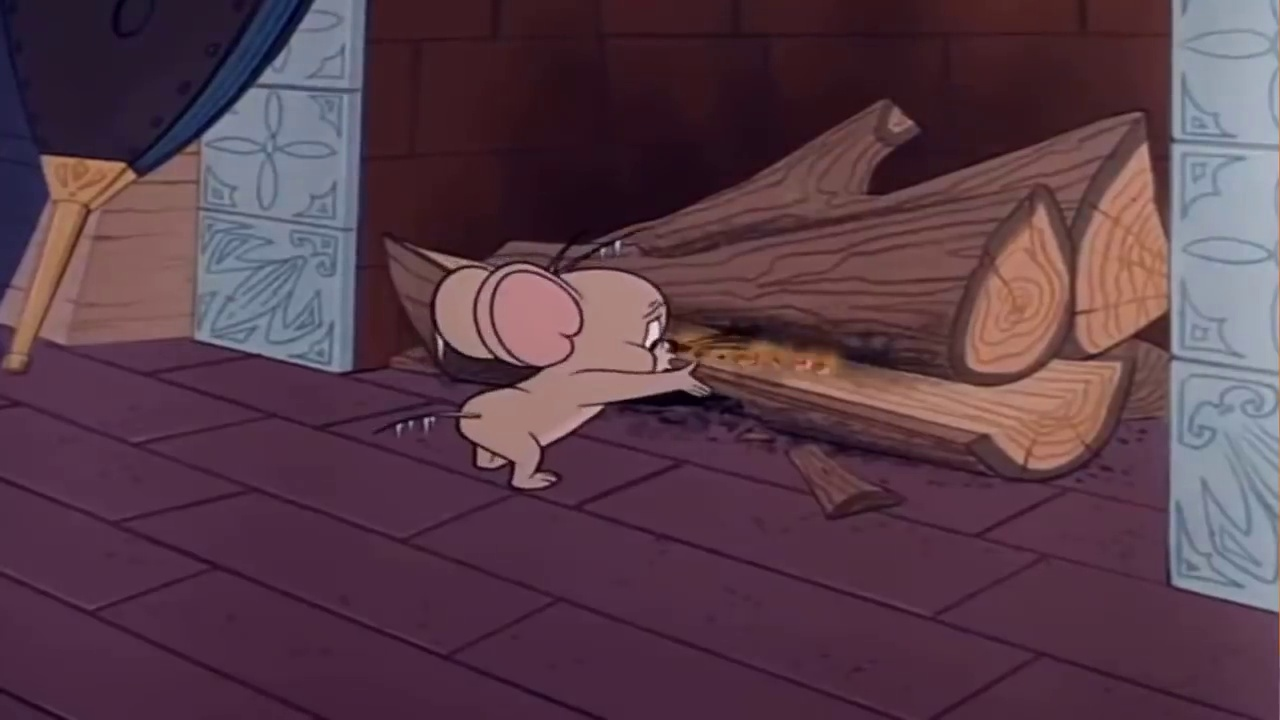face: (617, 289, 686, 374)
